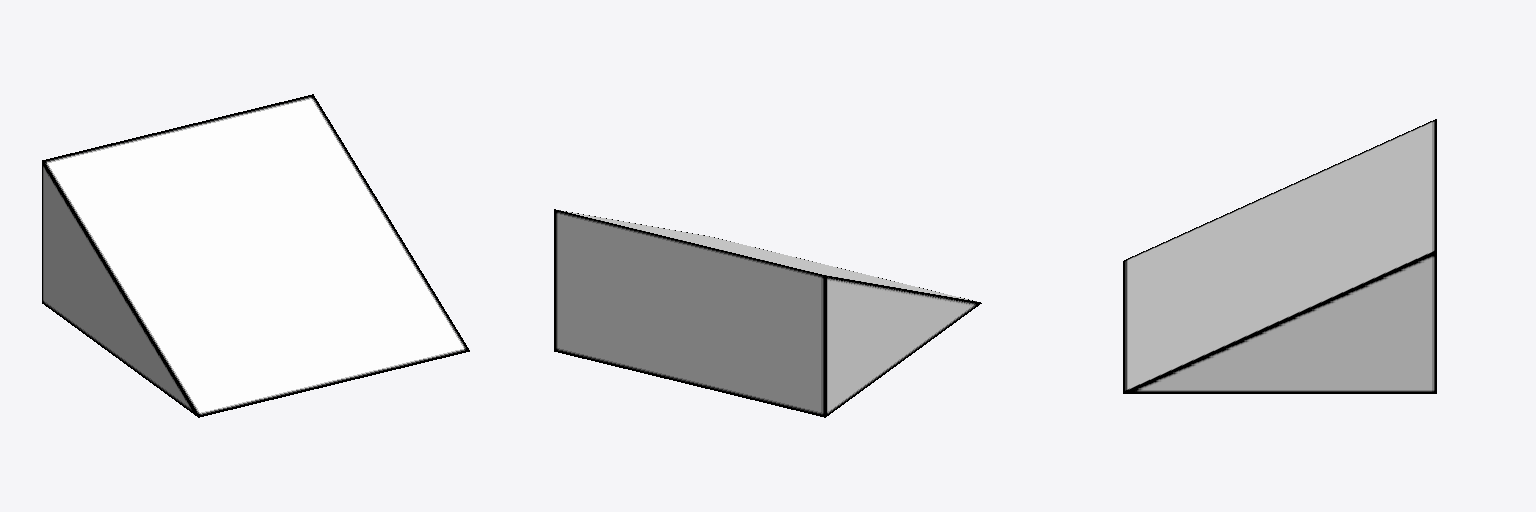
The picture shows the model from 3 angles: view 1: azimuth 30°, elevation 25°; view 2: azimuth 150°, elevation 25°; view 3: azimuth 270°, elevation 25°; orthographic projection.
Visible parts, largest first — view 1: Box02; view 2: Box02; view 3: Box02.
Part boxes in pixels (x1,y1,x2,y2): Box02: (42, 94, 469, 417); Box02: (554, 209, 981, 417); Box02: (1123, 119, 1436, 393).
Bounding box in the file's own units: 2 × 1 × 2.
1 materials, 1 textured.